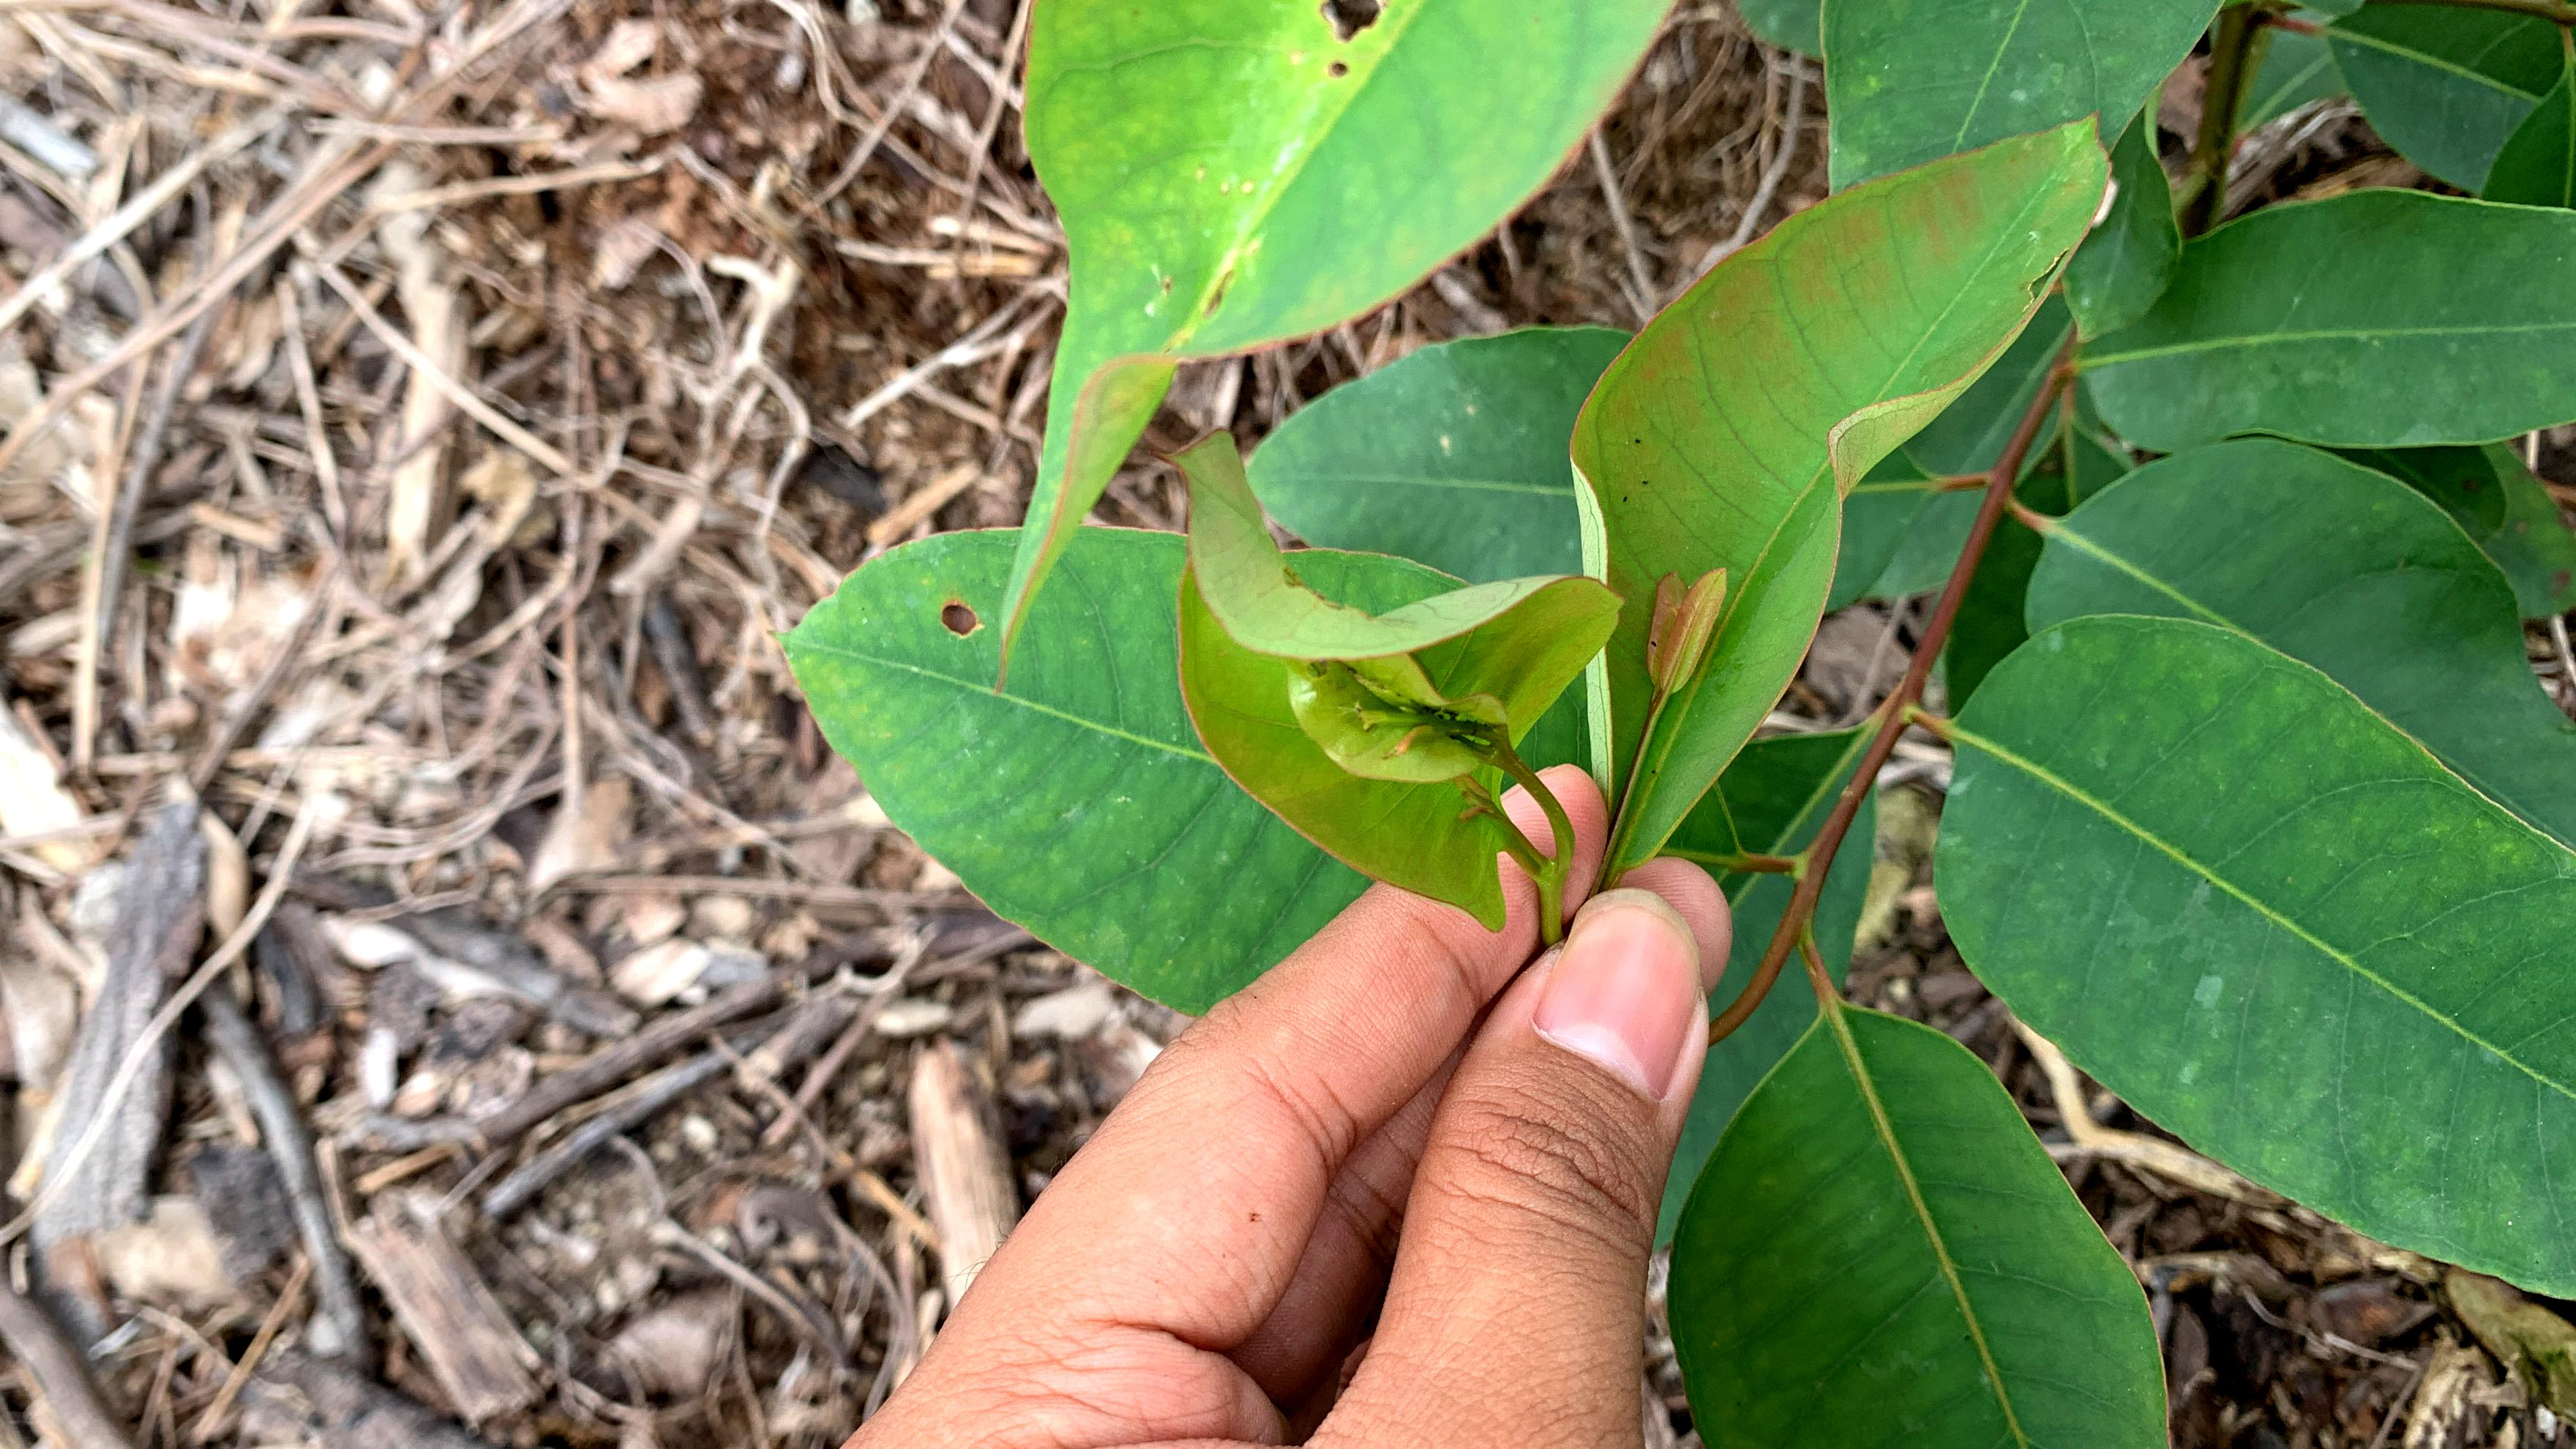Leaf Roller - Leaf: (1120, 428, 1594, 879)
